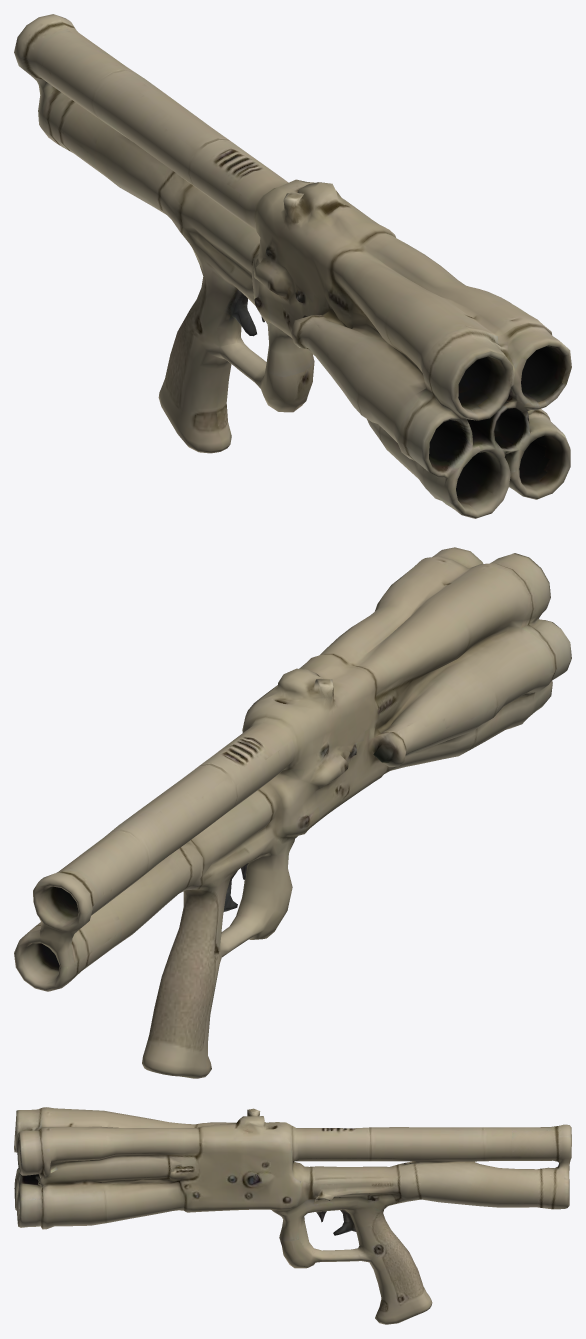
File: w_rocket.glb
The picture shows the model from 3 angles, top to bottom: view 1: azimuth 30°, elevation 25°; view 2: azimuth 150°, elevation 25°; view 3: azimuth 270°, elevation 25°; orthographic projection. The views are drawn at different scales.
Visible parts, largest first — view 1: model; view 2: model; view 3: model.
Part boxes in pixels (left/top/right/bottom): model: left=14, top=14, right=571, bottom=518; model: left=14, top=547, right=571, bottom=1078; model: left=14, top=1107, right=571, bottom=1324.
Bounding box in the file's own units: 0.3593 × 0.7642 × 1.9.
1 material, 1 textured.
